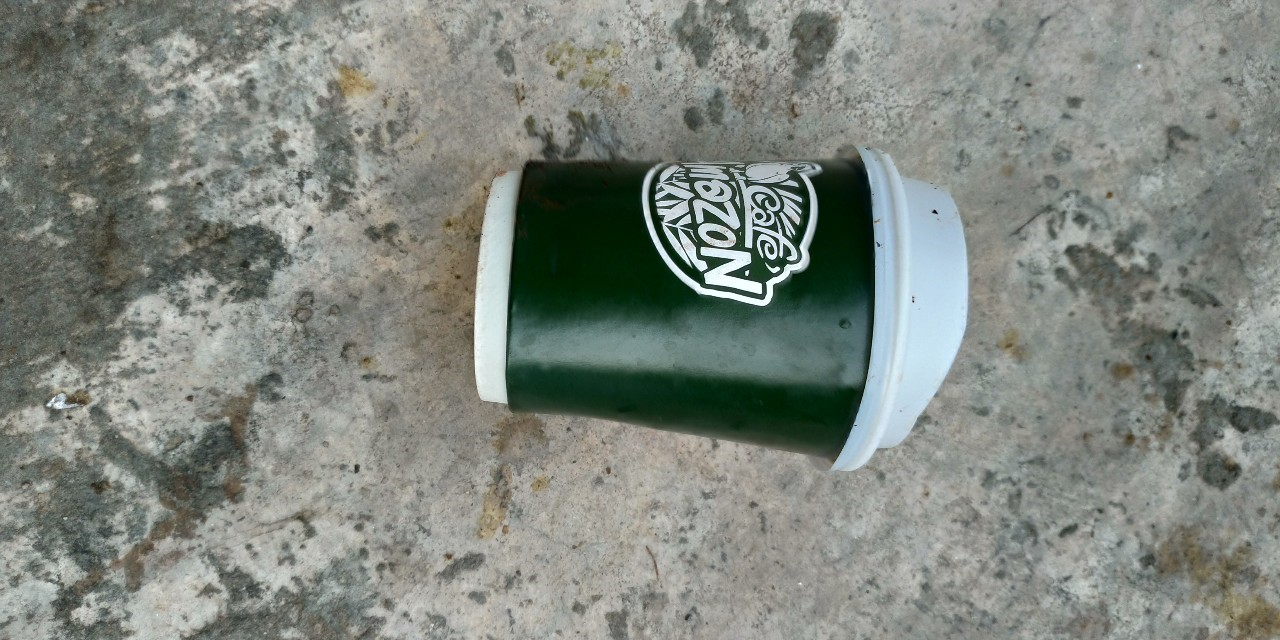PaperCup: (472, 146, 969, 473)
